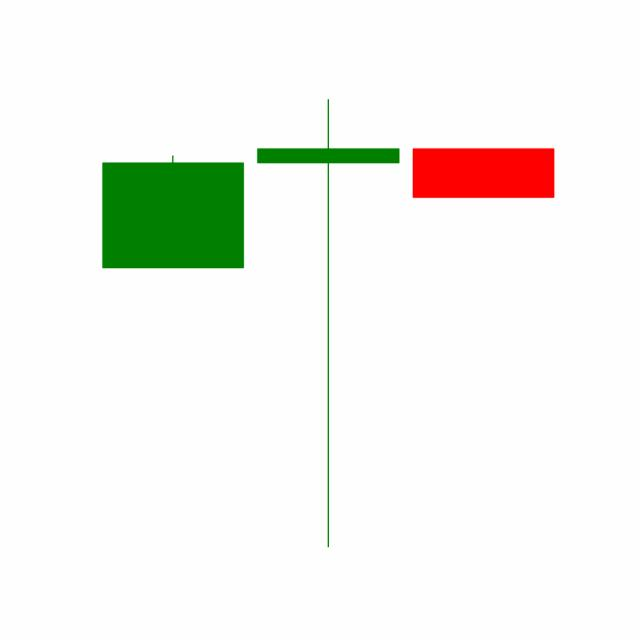Marubozu: (405, 148, 561, 198)
